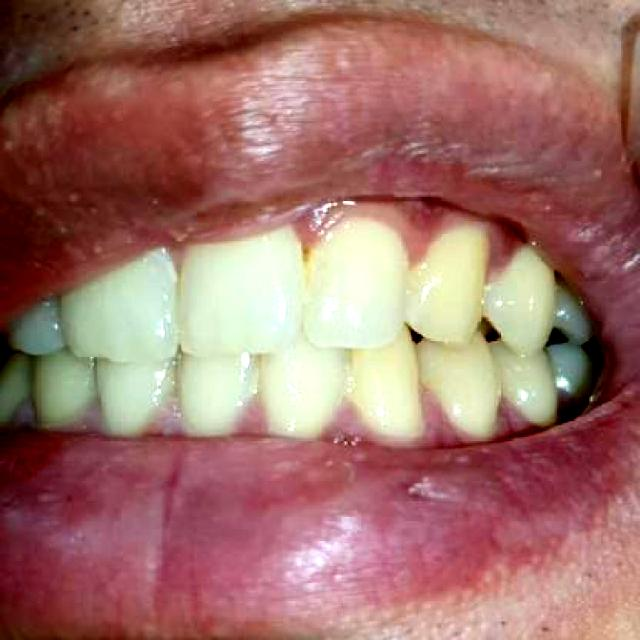Plaque: (449, 211, 547, 298)
